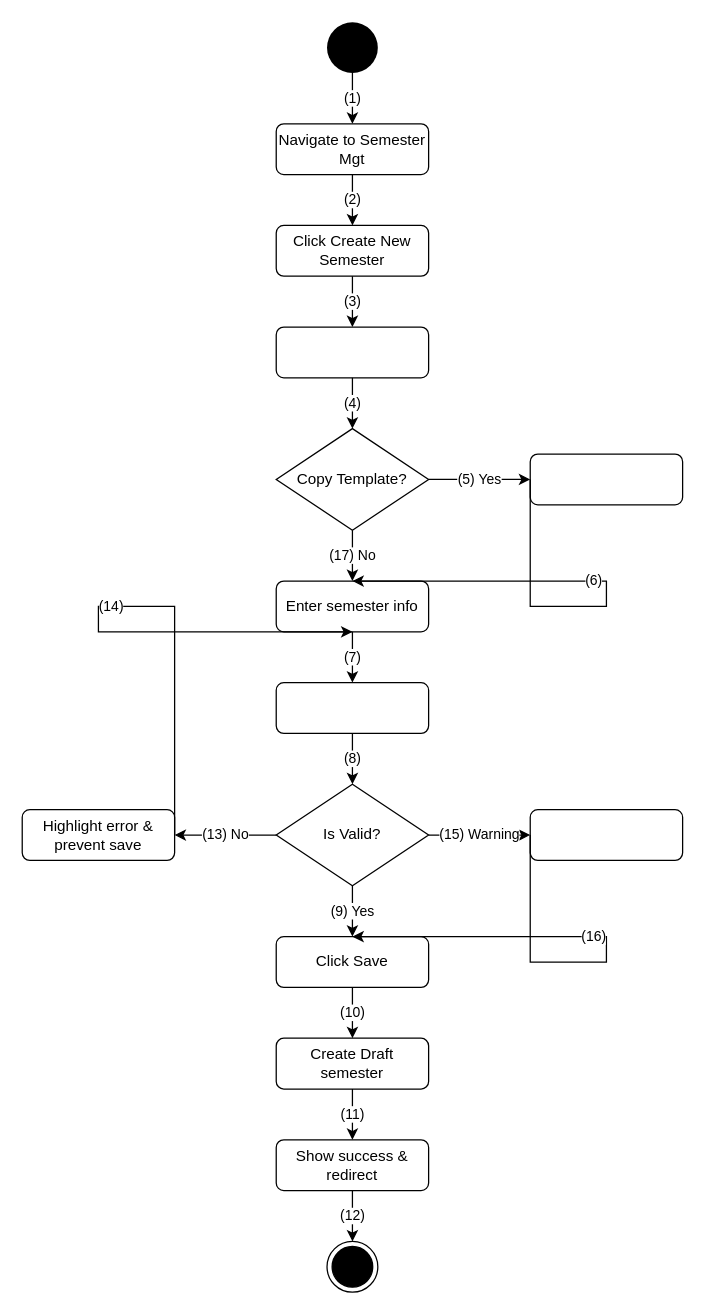
This 705x1314 diagram has some shape labels left out. Here are the shapes that lost their labels. From the top down, the centre of each, then its label:
At point (352, 352): "Display creation form".
At point (606, 479): "Copy settings from template".
At point (352, 707): "Validate data".
At point (606, 834): "Show timeline warning".
